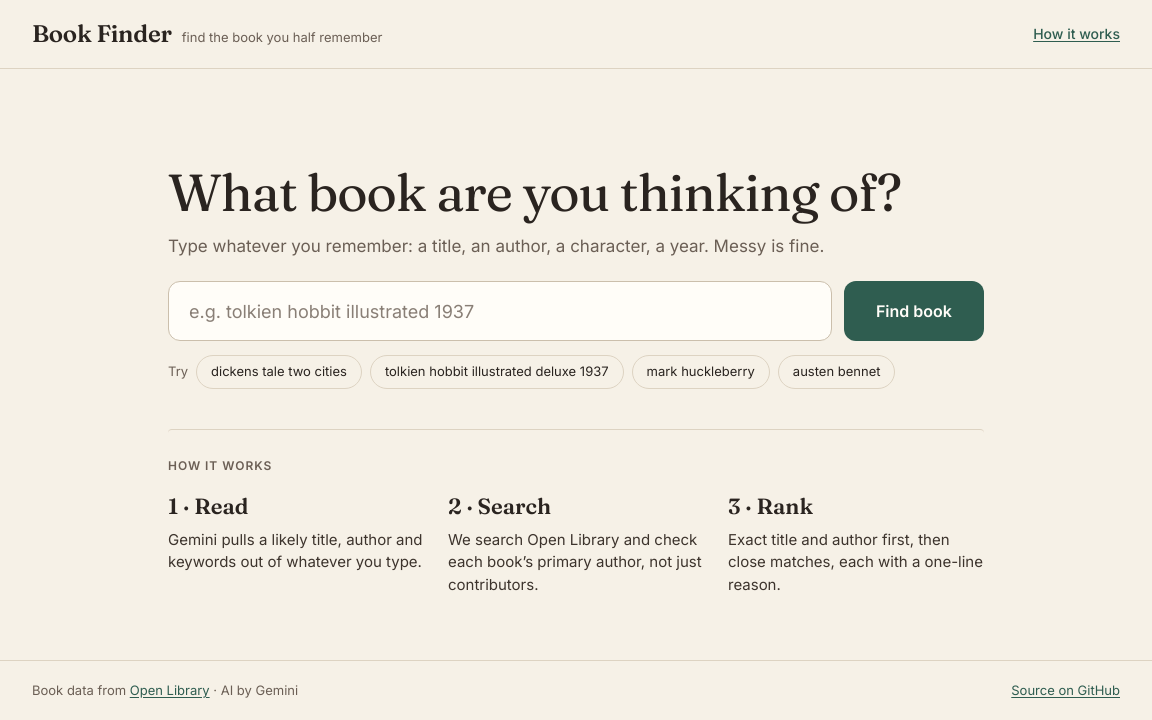
App › lists an author’s top works with a link to all of them
Type "dickens" into the search field labelled "What book are you thinking of?" at coordinates (500, 311), box [168,281,832,341]
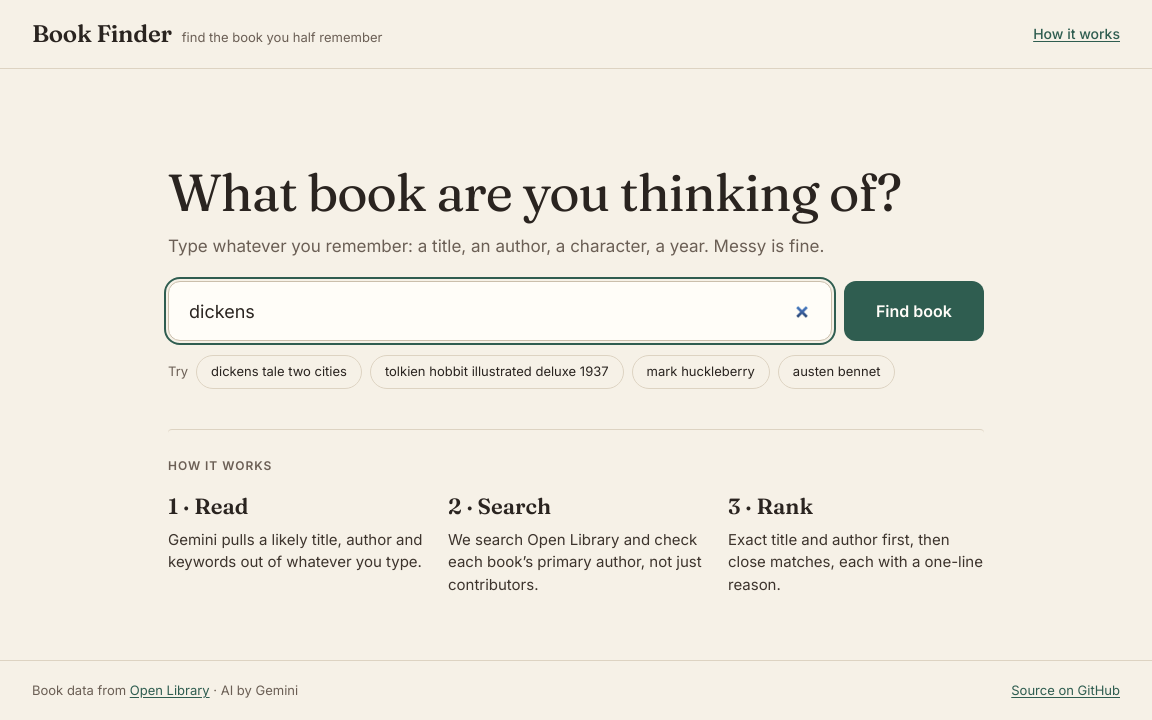
Click the button "Find book" at coordinates (914, 311), box [844,281,984,341]
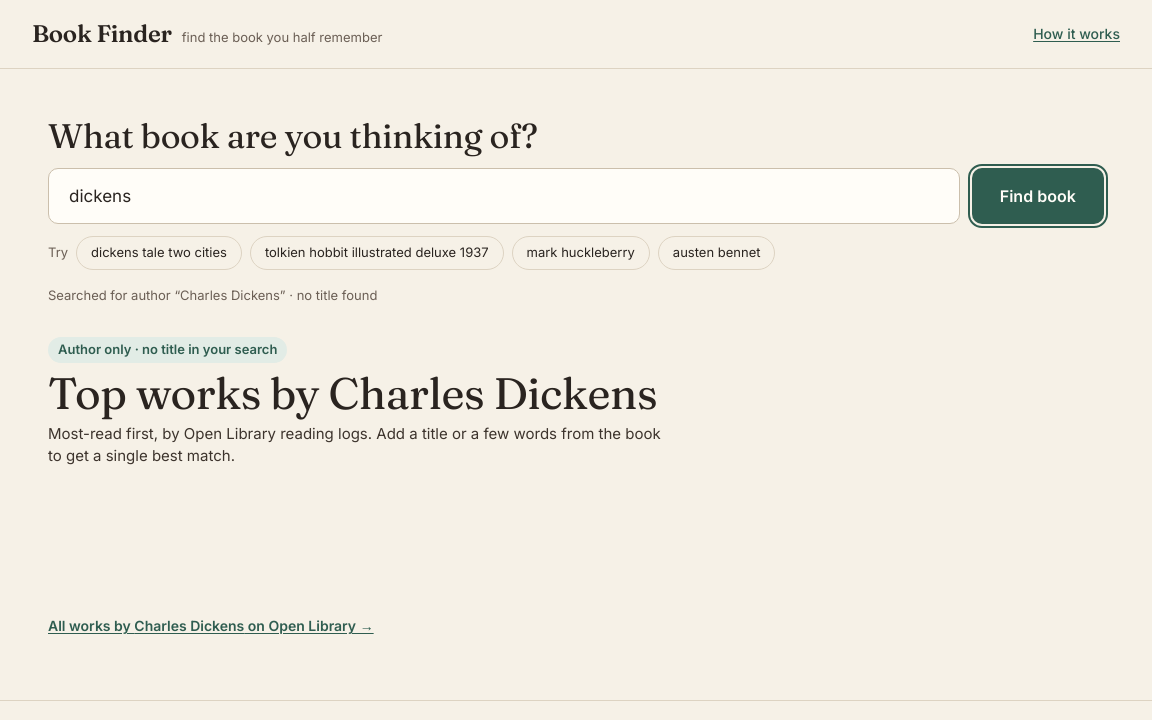
Result: the heading "Top works by Charles Dickens" is shown at [48,366,657,420]
